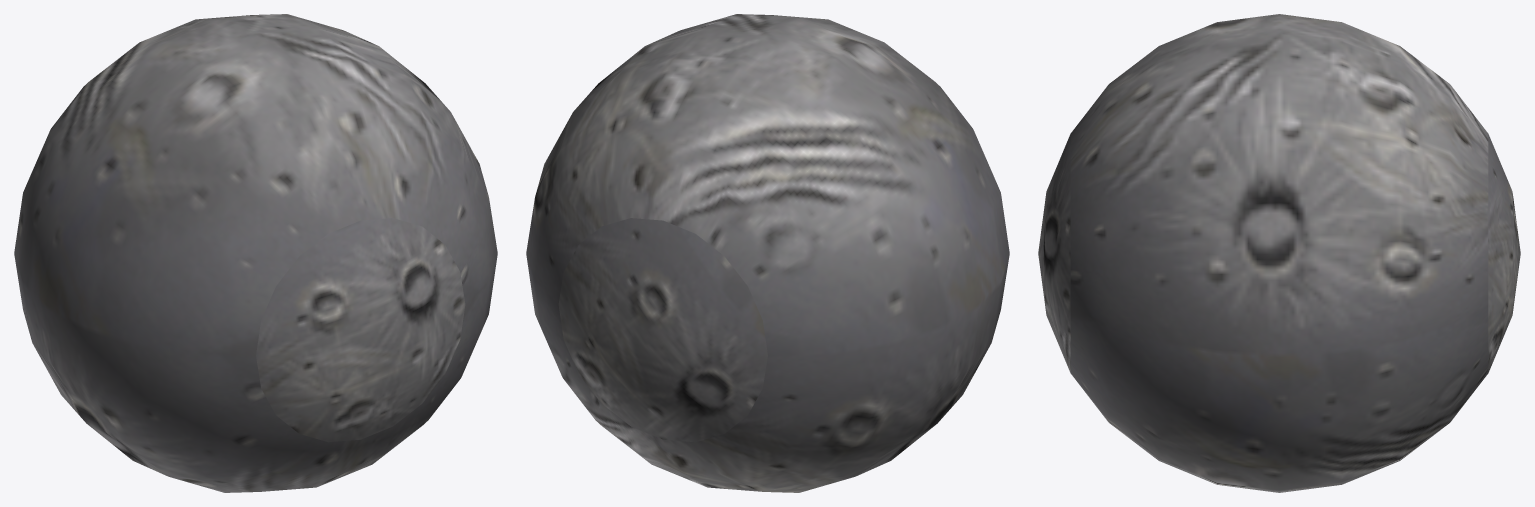
File: jjBigMoon.fbx
3 renders of one model, left to right at view 1: azimuth 30°, elevation 25°; view 2: azimuth 150°, elevation 25°; view 3: azimuth 270°, elevation 25°, orthographic.
Visible parts, largest first — view 1: jjBigMoon; view 2: jjBigMoon; view 3: jjBigMoon.
Part boxes in pixels (x1,y1,x2,y2): jjBigMoon: [14, 14, 497, 492]; jjBigMoon: [526, 14, 1009, 492]; jjBigMoon: [1038, 14, 1520, 492].
Bounding box in the file's own units: 8 × 8 × 8.
